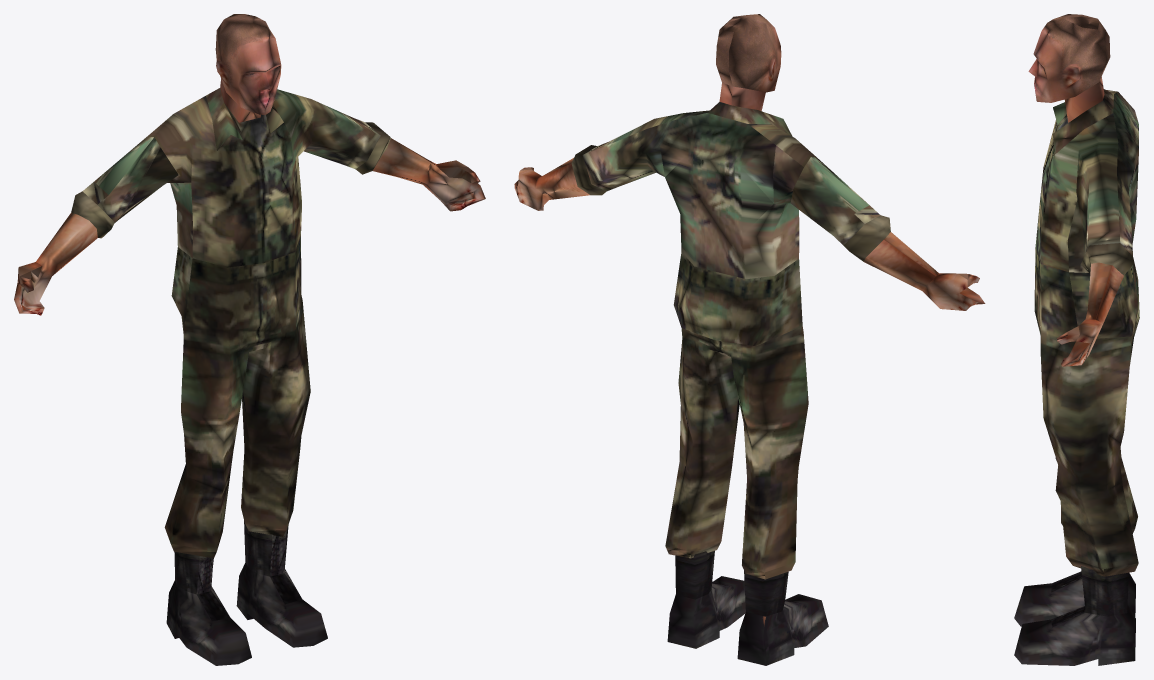
File: C4MechnB.glb
3 renders of one model, left to right at view 1: azimuth 30°, elevation 25°; view 2: azimuth 150°, elevation 25°; view 3: azimuth 270°, elevation 25°, orthographic.
Visible parts, largest first — view 1: _C4MechnB; view 2: _C4MechnB; view 3: _C4MechnB.
Boxes of the visible parts, x1,y1,x2,y2 form: _C4MechnB: (14,14,485,665); _C4MechnB: (514,14,985,665); _C4MechnB: (1014,14,1139,665).
Bounding box in the file's own units: 1.6 × 2.02 × 0.371.
2 materials, 2 textured.
